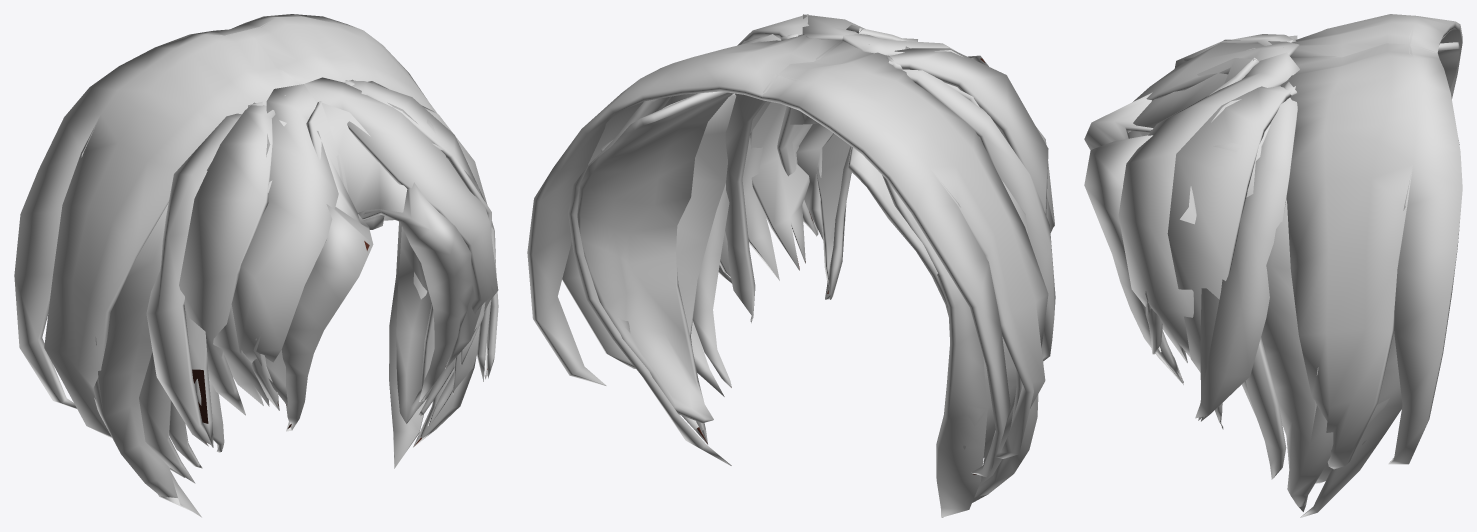
The model's file is Front-Hair 2.fbx.
3 views of the same model, side by side, from view 1: azimuth 30°, elevation 25°; view 2: azimuth 150°, elevation 25°; view 3: azimuth 270°, elevation 25° (orthographic). The views are drawn at different scales.
Parts seen in each view (by area): view 1: カスタム少女_mesh; view 2: カスタム少女_mesh; view 3: カスタム少女_mesh.
Boxes of the visible parts, <box> form: カスタム少女_mesh: <box>14,14,498,517</box>; カスタム少女_mesh: <box>527,14,1055,517</box>; カスタム少女_mesh: <box>1084,14,1462,517</box>.
Bounding box in the file's own units: 26.51 × 24.96 × 19.82.
3 materials, 2 textured.
